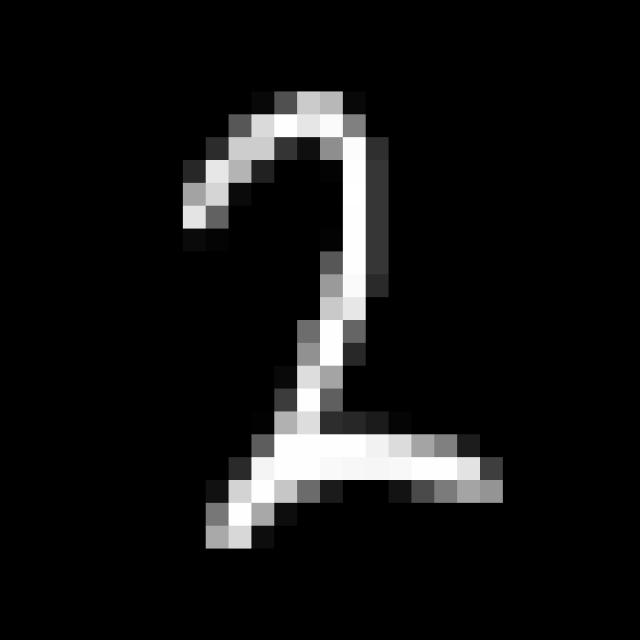two -2-: (158, 73, 512, 556)
